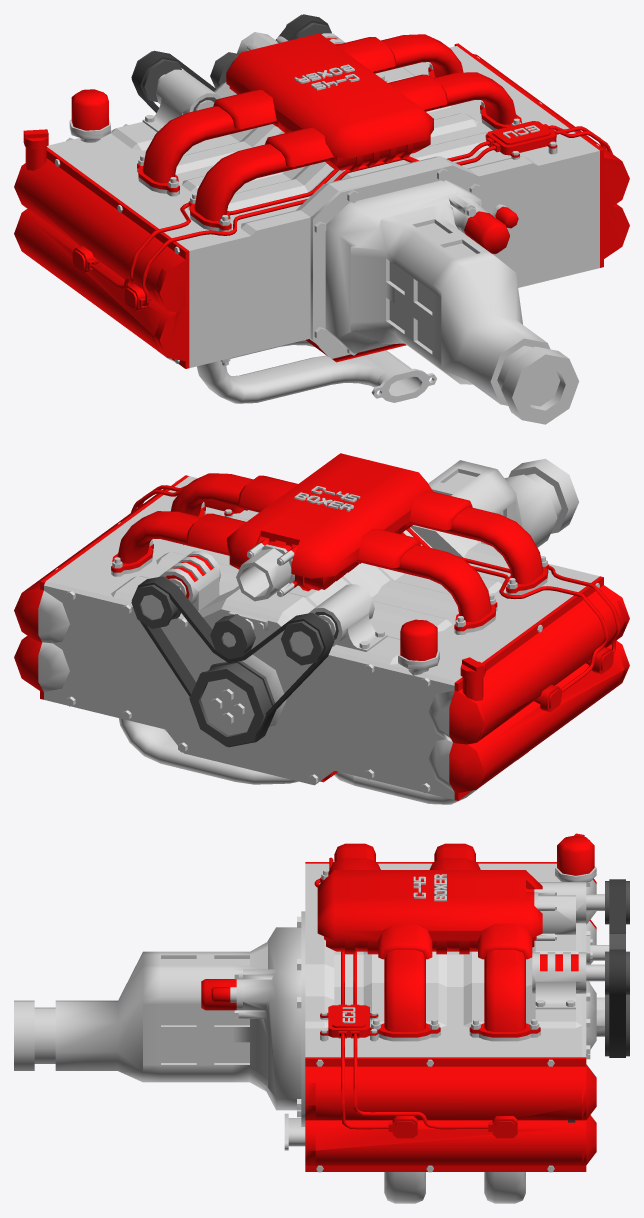
Rendered from product_2.glb.
The picture shows the model from 3 angles, top to bottom: view 1: azimuth 30°, elevation 25°; view 2: azimuth 150°, elevation 25°; view 3: azimuth 270°, elevation 25°; orthographic projection. The views are drawn at different scales.
Visible parts, largest first — view 1: GEARBOX, INTAKE COVER, L HEAD COVER, L HEAD, INTAKE MANIFOLD, R HEAD, L BLOCK, EXHAUST MANIFOLD, L CAMSHAFT HOUSING, R CAMSHAFT HOUSING, R BLOCK, R HEAD COVER (+9 smaller); view 2: TIMING COVER, INTAKE COVER, L HEAD COVER, INTAKE MANIFOLD, GEARBOX, L BLOCK, L HEAD, CRANKSHAFT PULLEY, EXHAUST MANIFOLD, STEERING PUMP, SERPENTINE BELT, ALTERNATOR (+10 smaller); view 3: GEARBOX, R HEAD COVER, INTAKE COVER, INTAKE MANIFOLD, R BLOCK, R HEAD, ALTERNATOR, EXHAUST MANIFOLD, TIMING COVER, SERPENTINE BELT, R CAMSHAFT HOUSING, THROTTLE (+12 smaller).
Part boxes in pixels (box(x1,y1,x2,y2)): GEARBOX: box(310, 164, 579, 424); INTAKE COVER: box(213, 33, 447, 166); L HEAD COVER: box(14, 146, 189, 368); L HEAD: box(73, 126, 282, 365); INTAKE MANIFOLD: box(137, 34, 521, 230); R HEAD: box(378, 62, 581, 287); L BLOCK: box(183, 88, 394, 345); EXHAUST MANIFOLD: box(158, 340, 436, 403); L CAMSHAFT HOUSING: box(55, 148, 207, 367); R CAMSHAFT HOUSING: box(455, 52, 599, 272); R BLOCK: box(375, 82, 506, 264); R HEAD COVER: box(454, 43, 629, 267); TIMING COVER: box(38, 574, 462, 799); INTAKE COVER: box(186, 453, 472, 578); L HEAD COVER: box(449, 576, 629, 800); INTAKE MANIFOLD: box(111, 473, 548, 631); GEARBOX: box(428, 458, 578, 547); L BLOCK: box(260, 525, 500, 774); L HEAD: box(372, 554, 580, 670); CRANKSHAFT PULLEY: box(189, 661, 274, 746); EXHAUST MANIFOLD: box(119, 718, 528, 804); STEERING PUMP: box(281, 584, 387, 665); SERPENTINE BELT: box(131, 576, 334, 747); ALTERNATOR: box(131, 551, 220, 628); GEARBOX: box(14, 911, 305, 1126); R HEAD COVER: box(305, 1057, 596, 1171); INTAKE COVER: box(317, 858, 542, 959); INTAKE MANIFOLD: box(320, 843, 540, 1037); R BLOCK: box(305, 938, 565, 1013); R HEAD: box(305, 1009, 565, 1048); ALTERNATOR: box(532, 951, 629, 1009); EXHAUST MANIFOLD: box(284, 1113, 525, 1203); TIMING COVER: box(555, 872, 596, 1122); SERPENTINE BELT: box(609, 879, 625, 1057); R CAMSHAFT HOUSING: box(305, 1048, 565, 1057); THROTTLE: box(534, 889, 575, 940).
Bounding box in the file's own units: 25.68 × 13.7 × 29.6.
